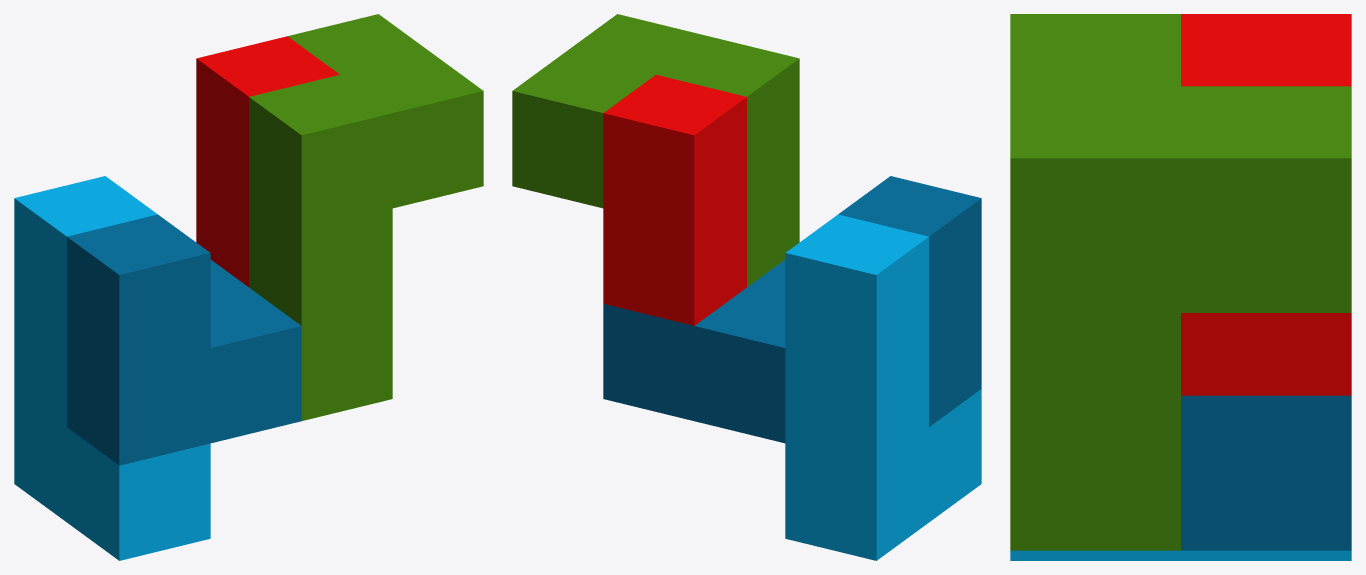
3 views of the same model, side by side, from view 1: azimuth 30°, elevation 25°; view 2: azimuth 150°, elevation 25°; view 3: azimuth 270°, elevation 25° (orthographic). The views are drawn at different scales.
Visible parts, largest first — view 1: mergedBlocks(Clone); view 2: mergedBlocks(Clone); view 3: mergedBlocks(Clone).
Boxes of the visible parts, x1,y1,x2,y2 form: mergedBlocks(Clone): [14, 14, 483, 560]; mergedBlocks(Clone): [512, 14, 981, 560]; mergedBlocks(Clone): [1010, 14, 1351, 560].
Size of the model in its own units: 4 by 4 by 2.
Materials: 4 (4 with a texture image).
